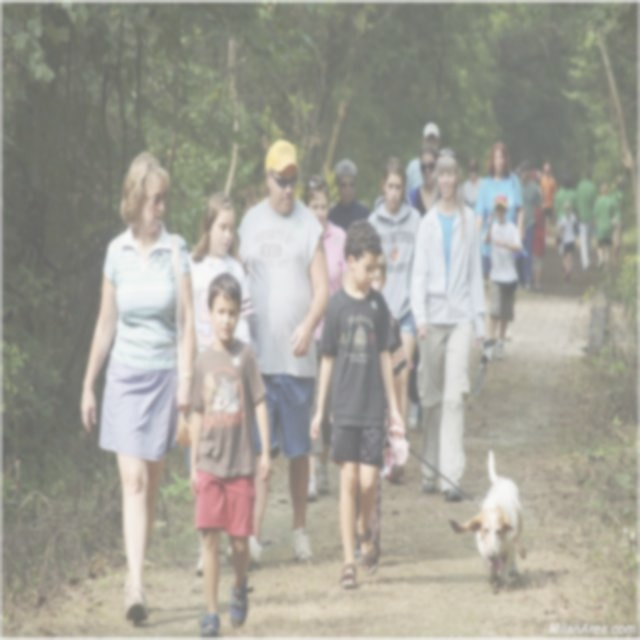pessoa: (78, 146, 198, 630), (221, 135, 334, 575), (306, 214, 408, 594), (184, 267, 275, 639), (406, 144, 496, 506), (365, 152, 425, 485), (356, 252, 408, 564), (304, 171, 350, 499), (469, 136, 527, 344), (406, 140, 442, 430), (189, 190, 253, 350), (482, 190, 526, 366), (515, 158, 544, 294), (325, 157, 372, 232), (404, 119, 440, 203), (574, 165, 600, 272), (591, 180, 617, 276), (528, 169, 548, 292), (552, 172, 576, 273), (554, 200, 580, 283), (608, 174, 626, 272), (540, 162, 557, 240), (460, 157, 484, 209), (529, 164, 543, 178)
